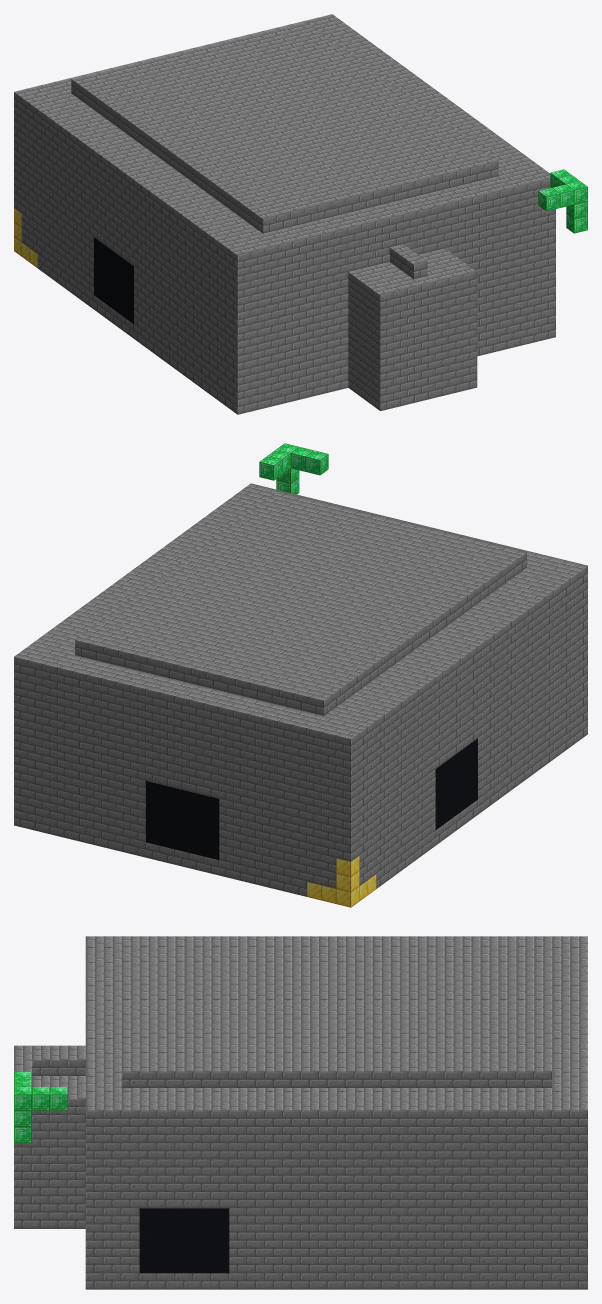
Rendered from 3 Big B.obj.
3 renders of one model, top to bottom at view 1: azimuth 30°, elevation 25°; view 2: azimuth 150°, elevation 25°; view 3: azimuth 270°, elevation 25°, orthographic. The views are drawn at different scales.
Parts seen in each view (by area): view 1: Stone_Bricks, Black_Concrete, Block_of_Emerald, Block_of_Gold; view 2: Stone_Bricks, Black_Concrete, Block_of_Emerald, Block_of_Gold; view 3: Stone_Bricks, Black_Concrete, Block_of_Emerald.
Part boxes in pixels (bbox=[...]): Stone_Bricks: bbox=[14, 14, 555, 414]; Black_Concrete: bbox=[94, 237, 133, 323]; Block_of_Emerald: bbox=[538, 169, 587, 233]; Block_of_Gold: bbox=[14, 208, 37, 268]; Stone_Bricks: bbox=[14, 483, 587, 896]; Black_Concrete: bbox=[146, 738, 477, 859]; Block_of_Emerald: bbox=[259, 443, 328, 494]; Block_of_Gold: bbox=[307, 855, 376, 907]; Stone_Bricks: bbox=[14, 936, 587, 1289]; Black_Concrete: bbox=[139, 1208, 229, 1273]; Block_of_Emerald: bbox=[14, 1071, 67, 1143].
Bounding box in the file's own units: 23 × 12 × 32.
Materials: 8 (8 with a texture image).
